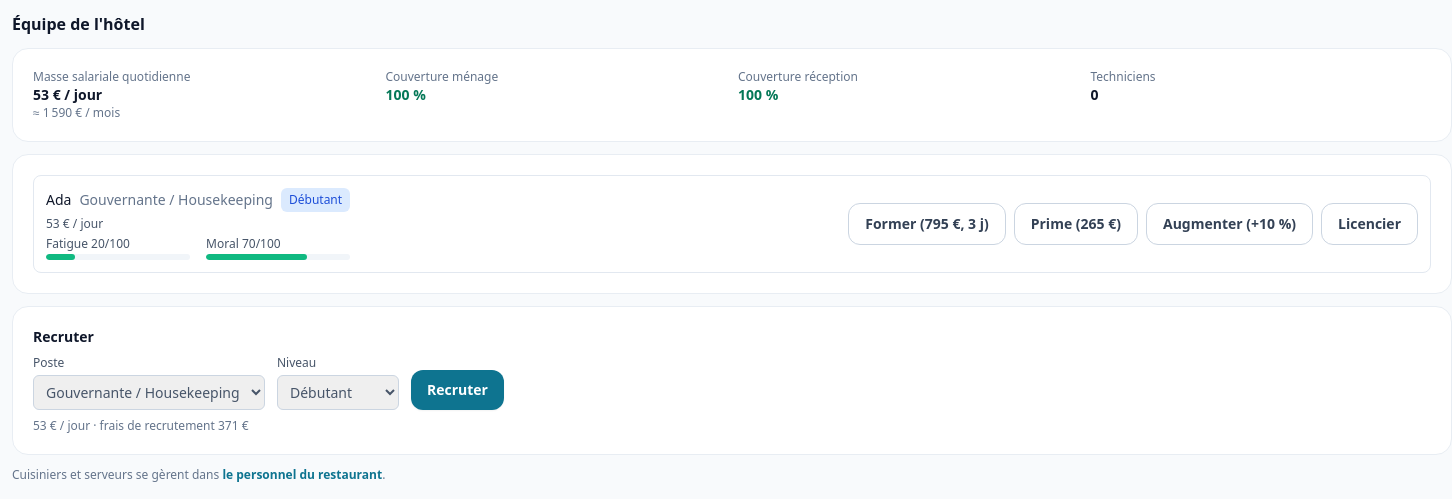
Test: StaffRosterPanel / actions › cancelling a firing does nothing
This screenshot has width=1452, height=499.
Click the button "Licencier": [1370, 224] box top-left (1321, 203), bottom-right (1418, 245)
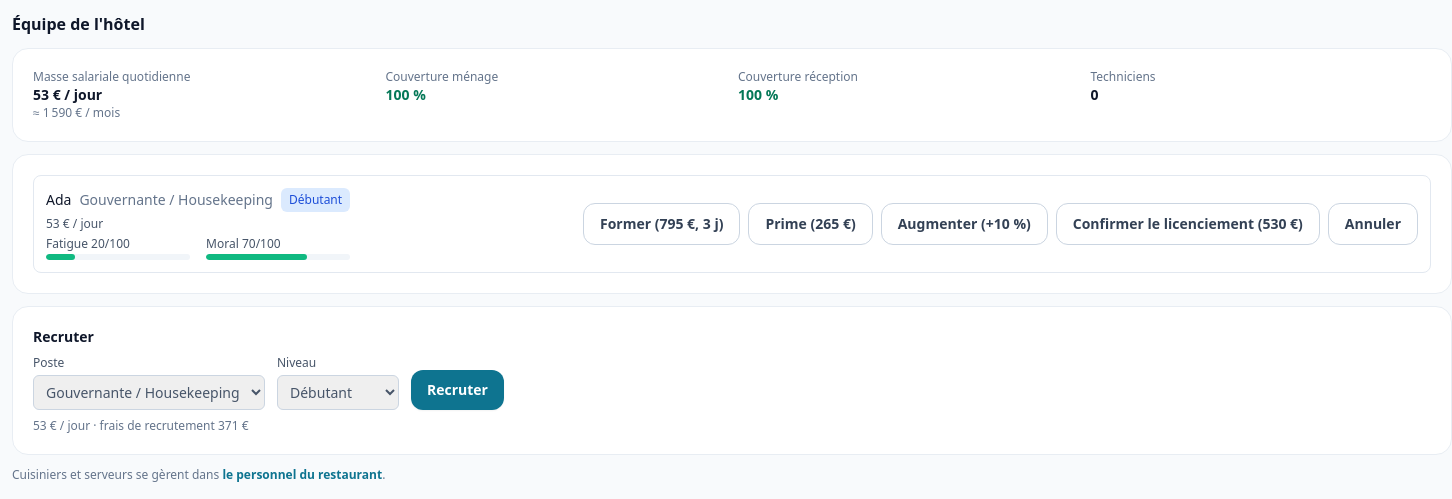
Click the button "Annuler": [1373, 224] box top-left (1328, 203), bottom-right (1418, 245)
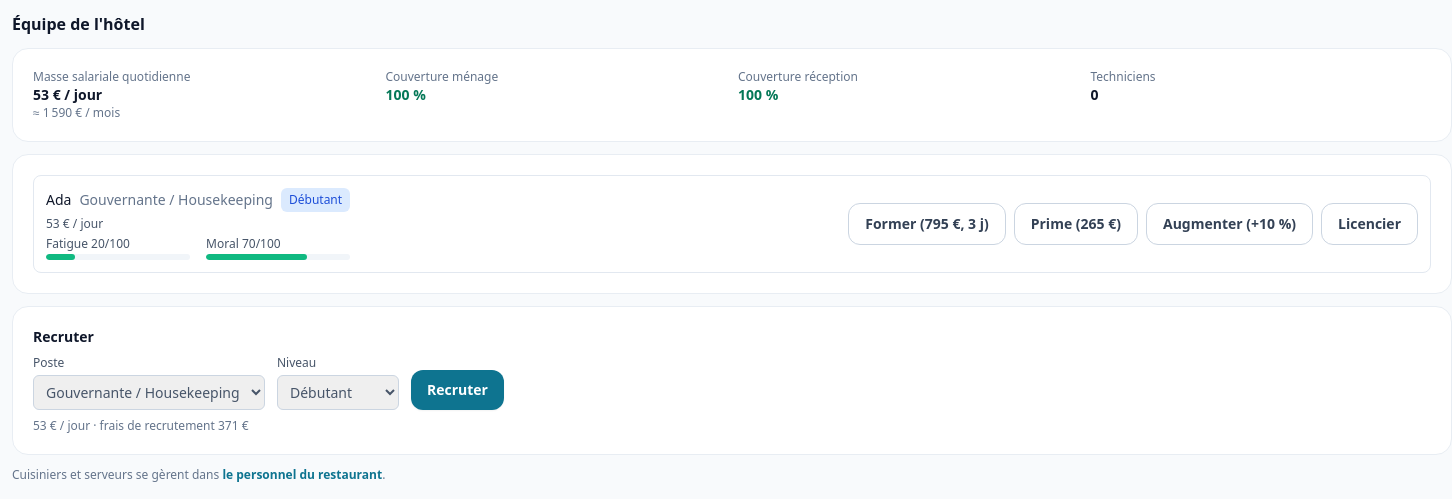
Check: the button "Licencier" is shown, box top-left (1321, 203), bottom-right (1418, 245)
